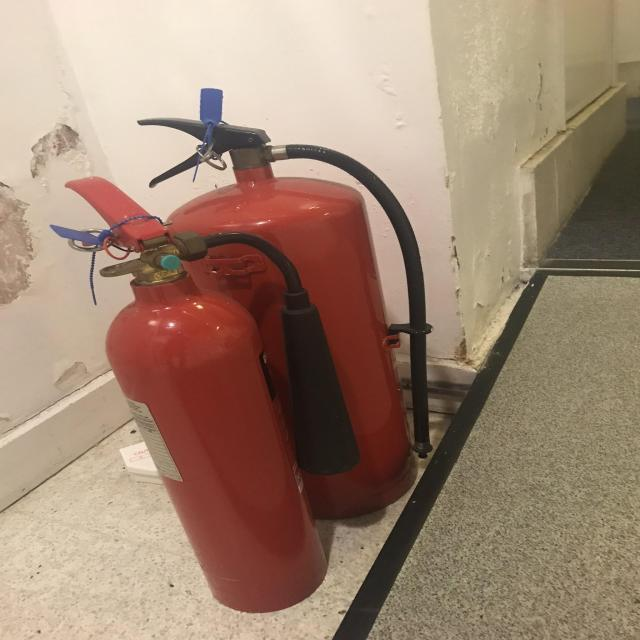fire_extinguisher: (57, 174, 367, 619), (129, 116, 437, 526)
